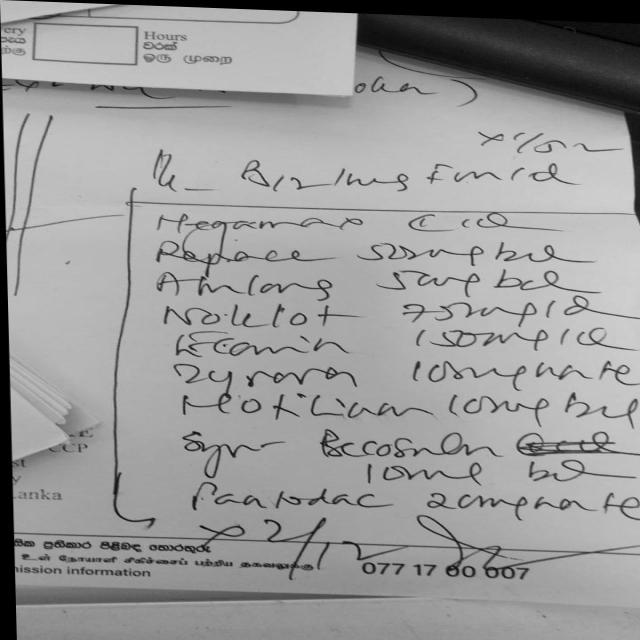Prescription: (166, 426, 620, 490), (159, 352, 637, 392), (163, 318, 639, 358), (146, 290, 596, 332), (146, 260, 594, 298), (168, 385, 637, 421), (144, 229, 587, 267), (148, 206, 542, 235)
